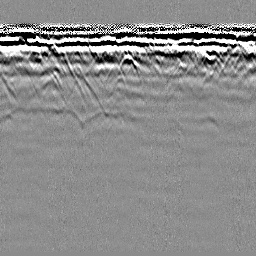cavity: (118, 53, 140, 71)
